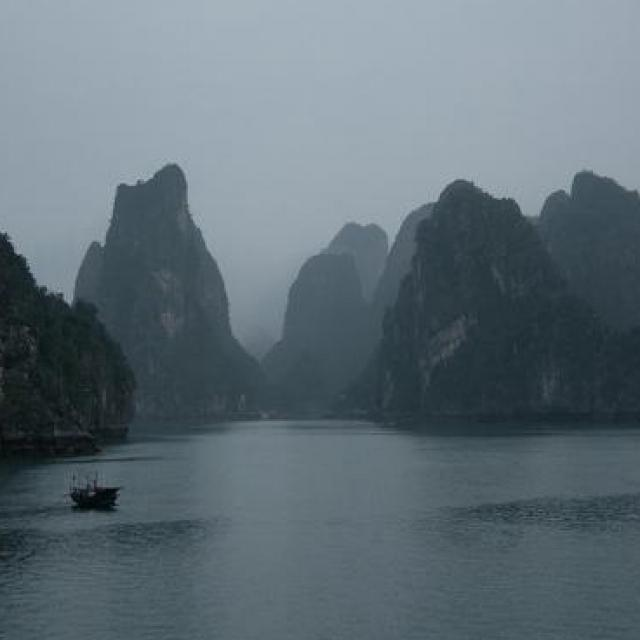ship: (62, 462, 121, 508)
